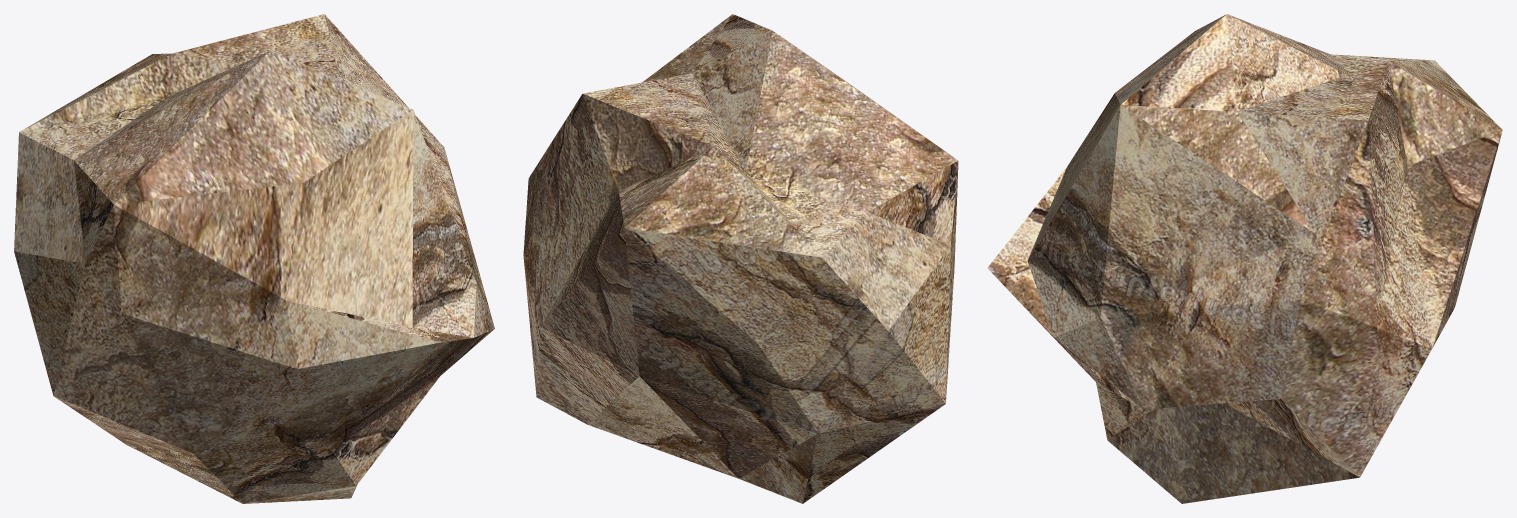
Rendered from pebble.obj.
The picture shows the model from 3 angles, left to right: view 1: azimuth 30°, elevation 25°; view 2: azimuth 150°, elevation 25°; view 3: azimuth 270°, elevation 25°; orthographic projection. The views are drawn at different scales.
Visible parts, largest first — view 1: Suzanne; view 2: Suzanne; view 3: Suzanne.
Part boxes in pixels (<box>): Suzanne: <box>14,14,494,503</box>; Suzanne: <box>523,14,958,503</box>; Suzanne: <box>987,14,1502,503</box>.
Bounding box in the file's own units: 1.59 × 1.67 × 1.7.
1 material, 1 textured.
